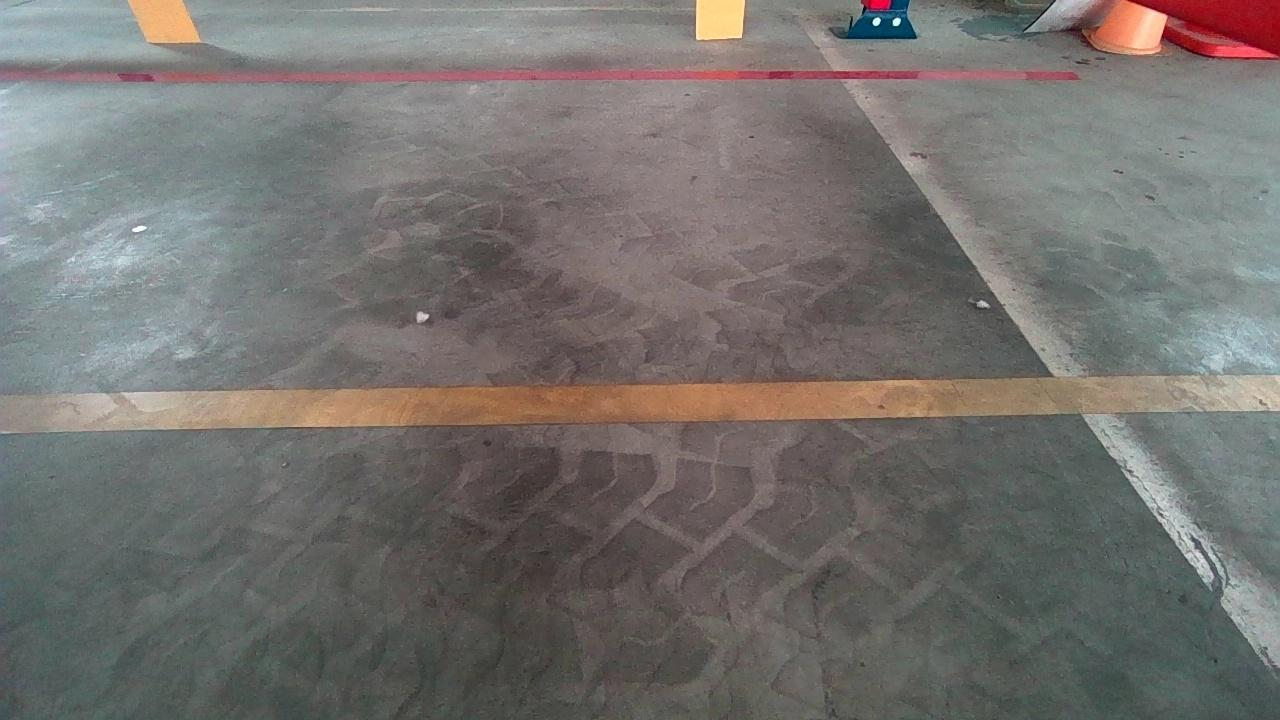orange_strip: (132, 0, 202, 43), (695, 0, 747, 40)
red_line: (0, 69, 1081, 81)
yellow_line: (3, 370, 1280, 432)
